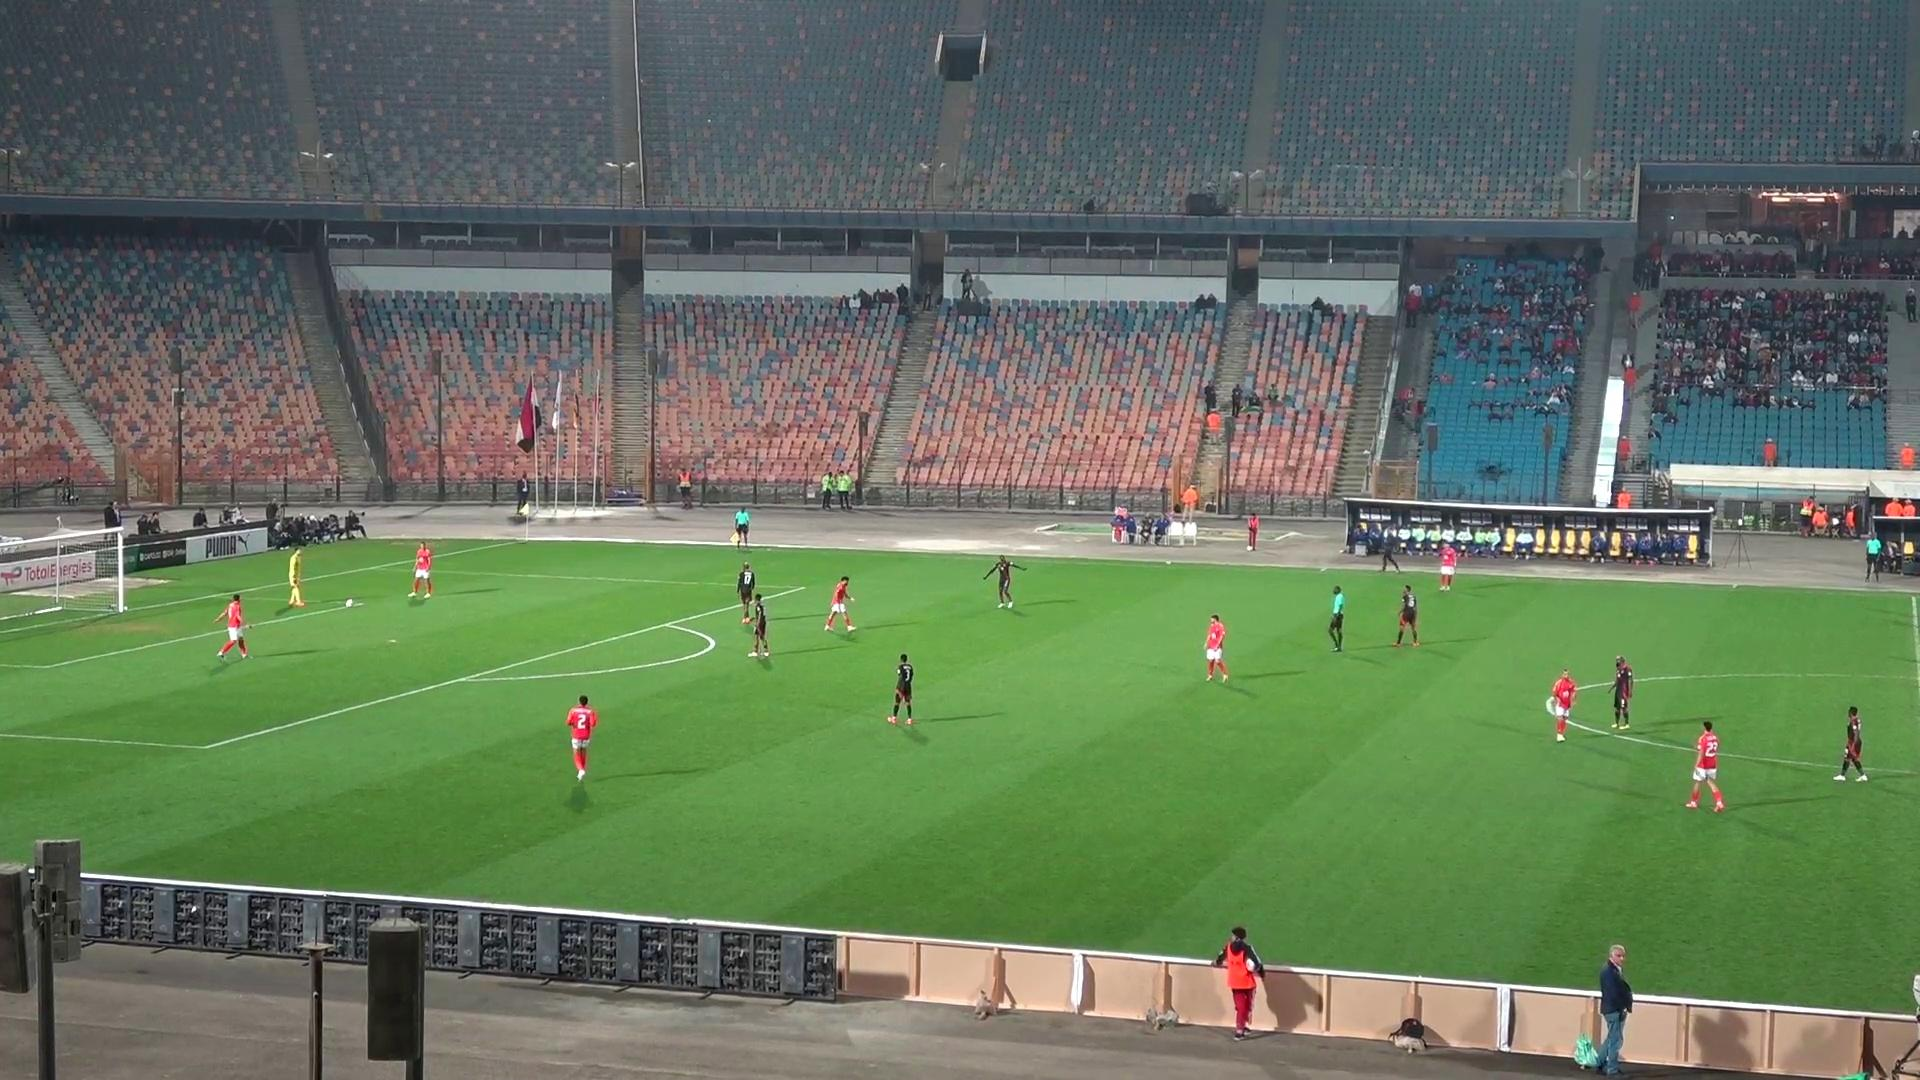Ball: (343, 599, 363, 607)
GK1: (287, 546, 306, 607)
Refree: (1325, 587, 1346, 651), (1863, 520, 1884, 580), (727, 506, 752, 547)
Team1: (1685, 719, 1726, 812), (564, 694, 597, 785), (1545, 669, 1578, 741), (218, 592, 249, 661), (823, 576, 856, 633), (1203, 615, 1229, 682), (407, 542, 434, 600), (1437, 541, 1460, 591)
Team2: (1832, 707, 1869, 782), (982, 556, 1023, 609), (1609, 657, 1636, 731), (738, 597, 771, 659), (886, 654, 914, 727), (1391, 584, 1422, 647), (735, 560, 761, 624)
